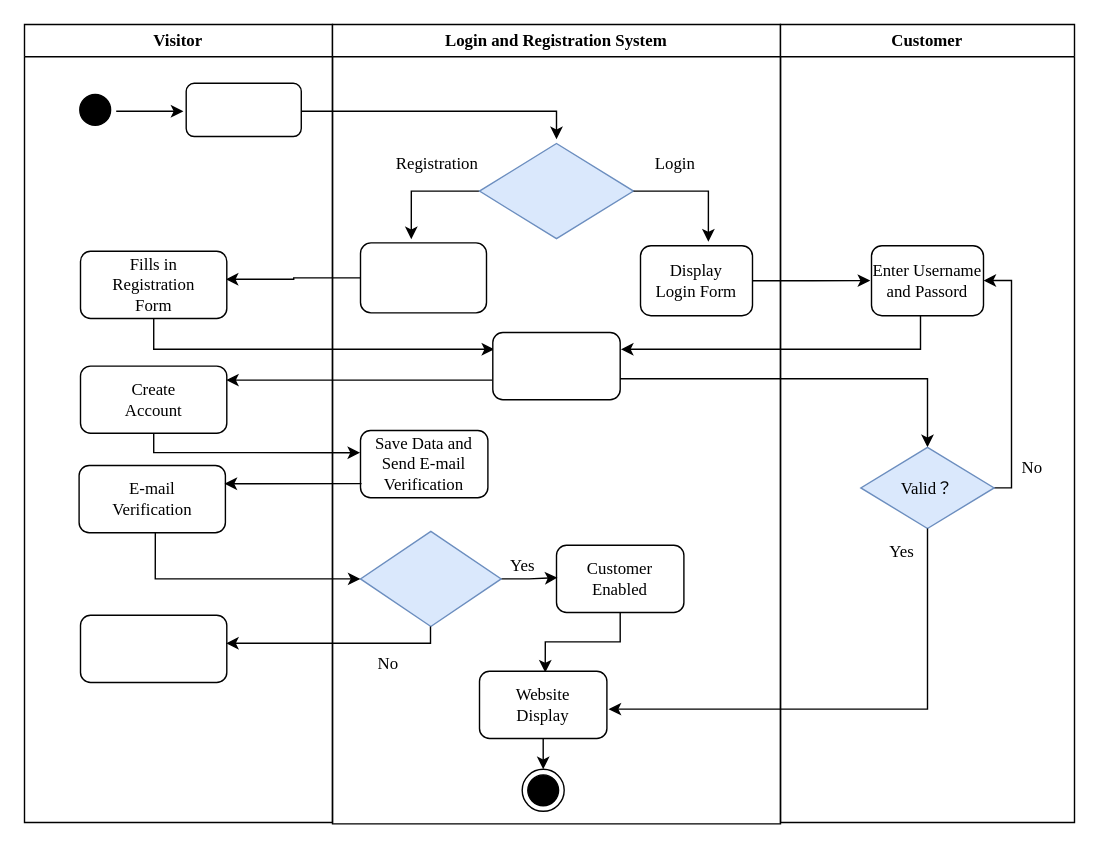
The diagram is 1099 pixels wide and 848 high, and some of its shapes have lost their labels. Each missing label, with the centre of its shape:
Display "Register Fail" Page: pixel 153 648
Display Registration Form: pixel 422 277
Login or Registration: pixel 556 190
Validates Information: pixel 555 365
verification successful: pixel 430 578
Website Access: pixel 243 109
